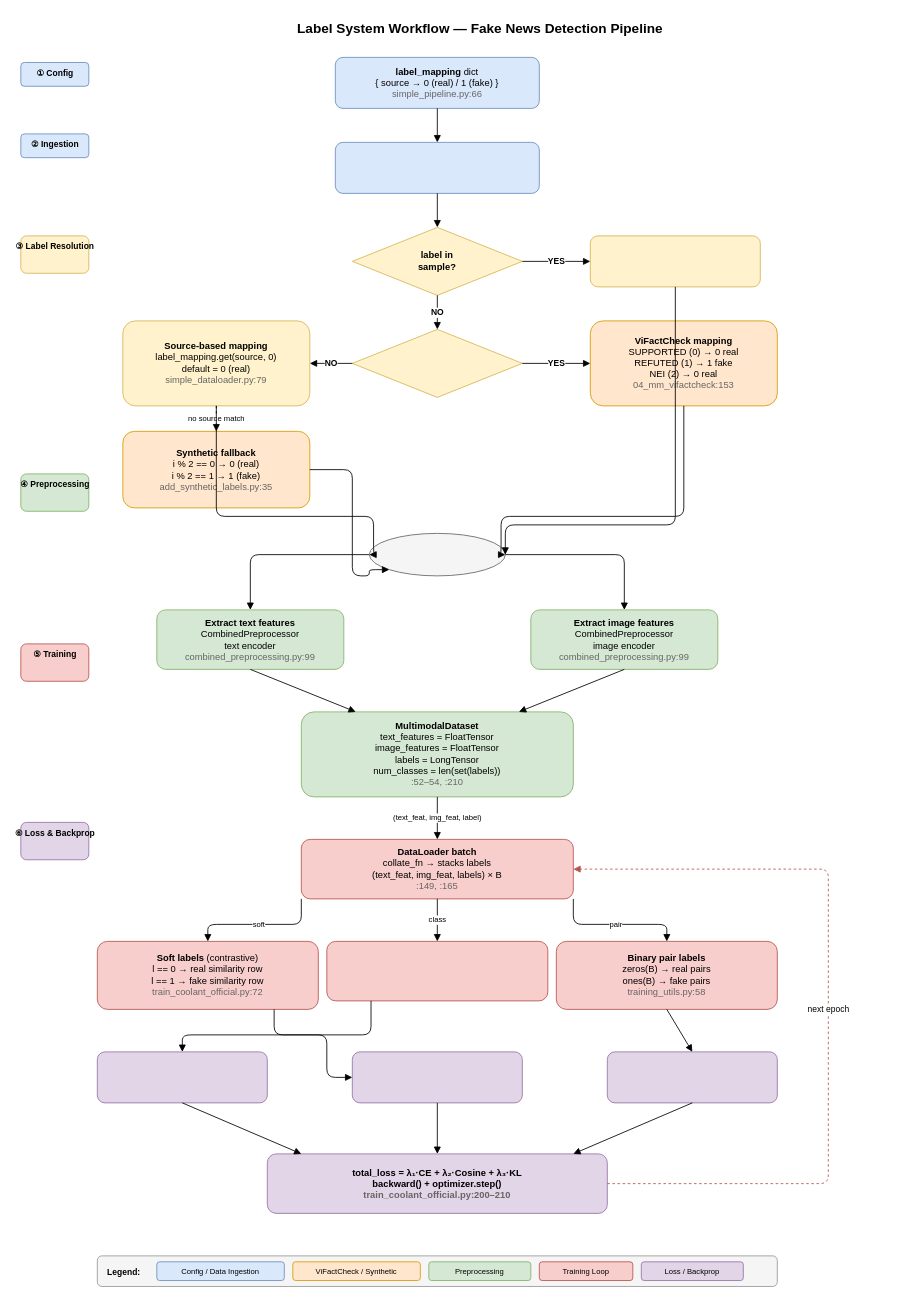
The diagram is 919 pixels wide and 1301 high, and some of its shapes have lost their labels. Each missing label, with the centre of its shape:
"Class labels LongTensor [B] → model forward train_coolant_official.py:190" belongs at point (437, 971).
"CosineEmbeddingLoss contrastive pairs :612" belongs at point (436, 1077).
"CrossEntropyLoss + label smoothing :614" belongs at point (181, 1077).
"KLDivLoss ambiguity learning :614" belongs at point (691, 1077).
"label: int {0, 1}" belongs at point (436, 554).
"Load raw JSON ViFactCheckDataset._load_data() simple_dataloader.py:52" belongs at point (436, 167).
"Use existing label (from ViFactCheck JSON) :60" belongs at point (674, 261).
"ViFactCheck data available?" belongs at point (436, 363).
